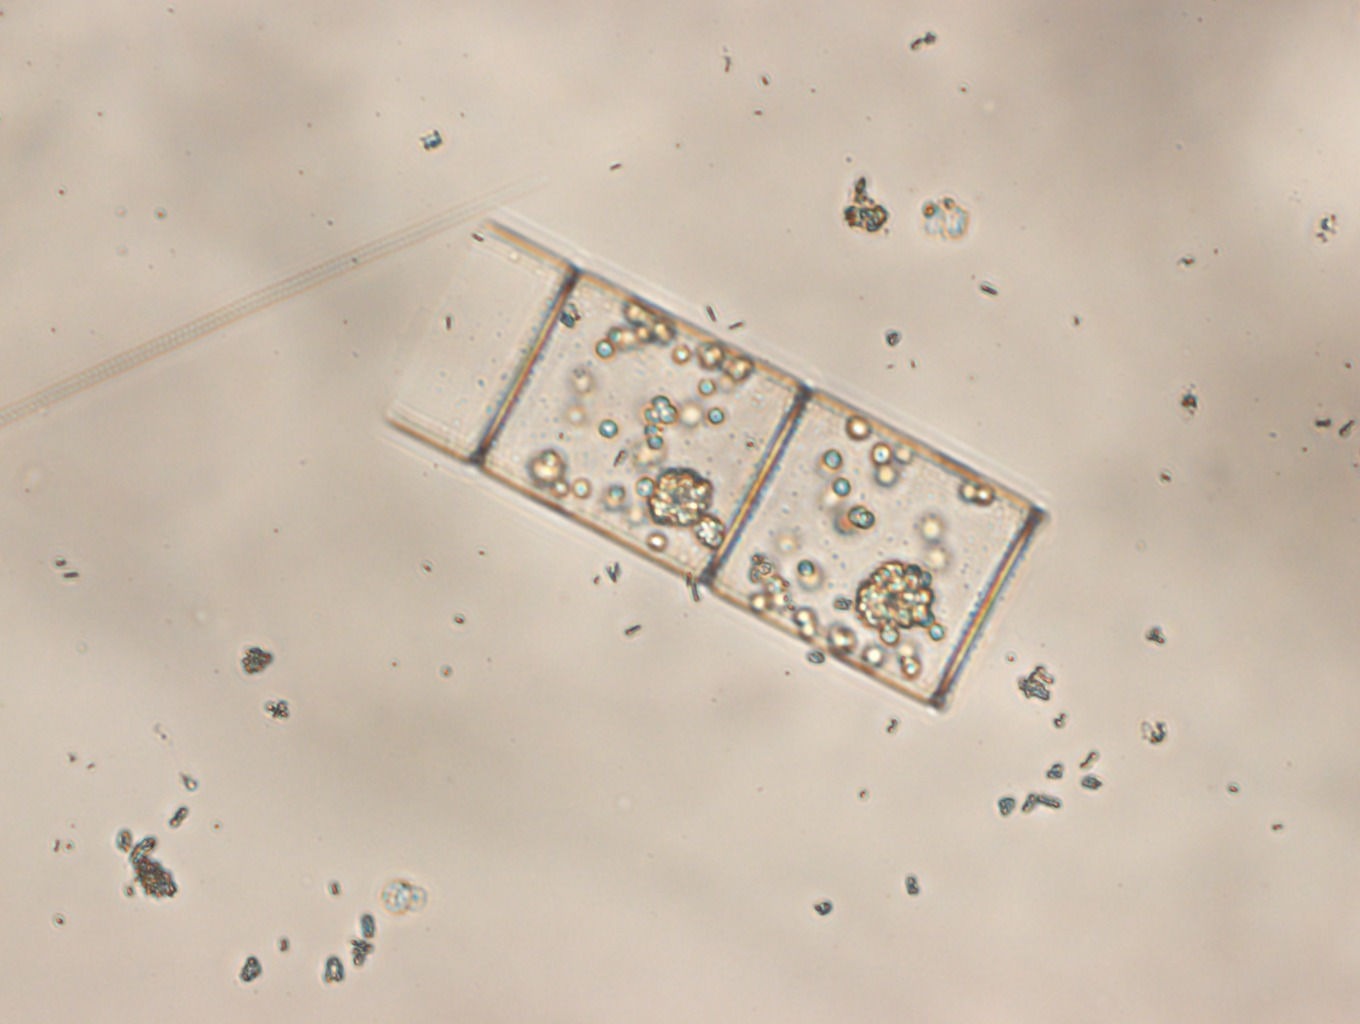guinardia flaccida: (381, 217, 1048, 714)
